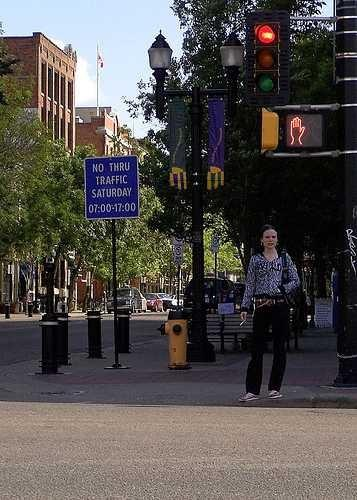red: (254, 17, 279, 99), (250, 21, 279, 46)
